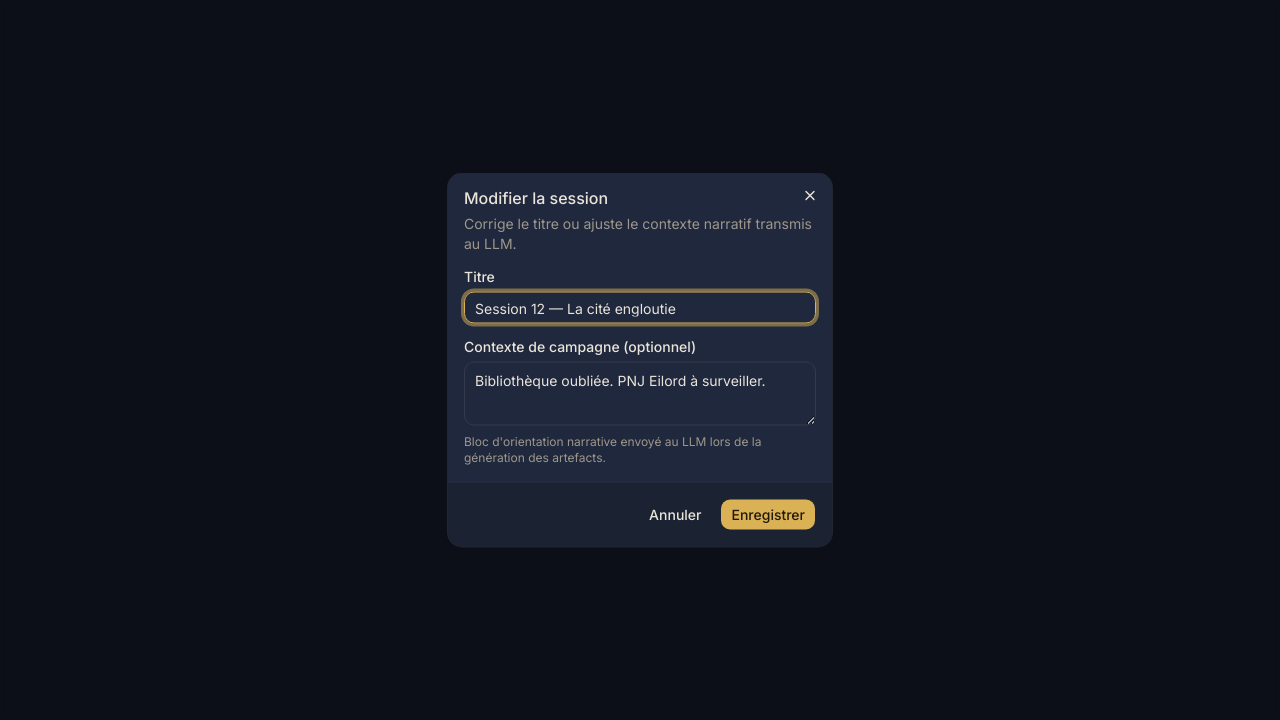
<SessionEditDialog> › surfaces the 403 message on a forbidden response
Click the button "Enregistrer" at (768, 514), box [720,498,816,530]
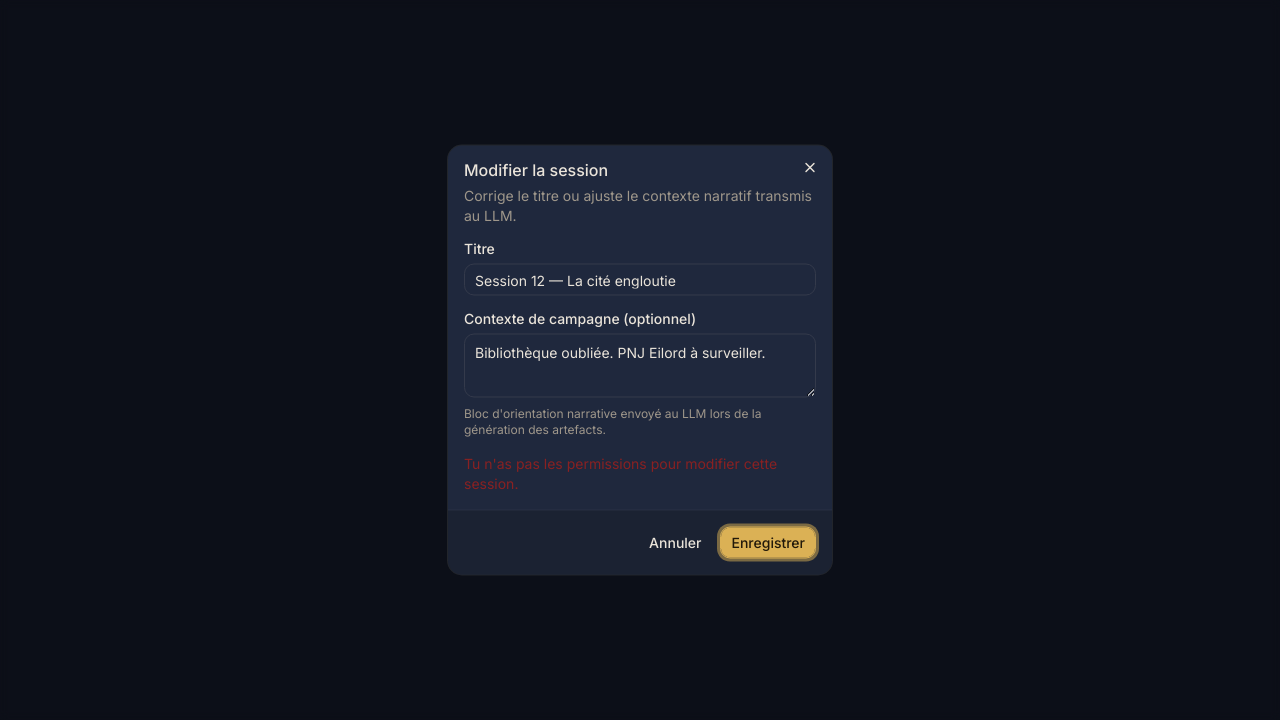
Expected: the text "Tu n'as pas les permissions pour modifier cette session." is shown, [464,454,816,494]
